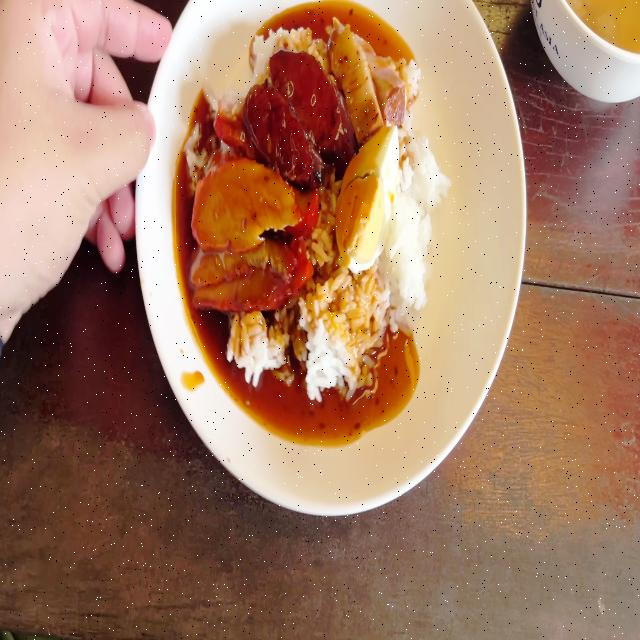boiled_egg: (338, 126, 400, 272)
chainese_sausage: (242, 50, 338, 175), (248, 78, 310, 180), (278, 50, 343, 138)
crispy_pork: (330, 24, 409, 139)
red_pork: (186, 148, 312, 304), (192, 241, 312, 314), (193, 164, 308, 234)
red_pork_and_crispy_pork: (184, 18, 448, 399)
rice: (302, 272, 384, 392), (394, 138, 446, 287), (223, 310, 285, 378)
